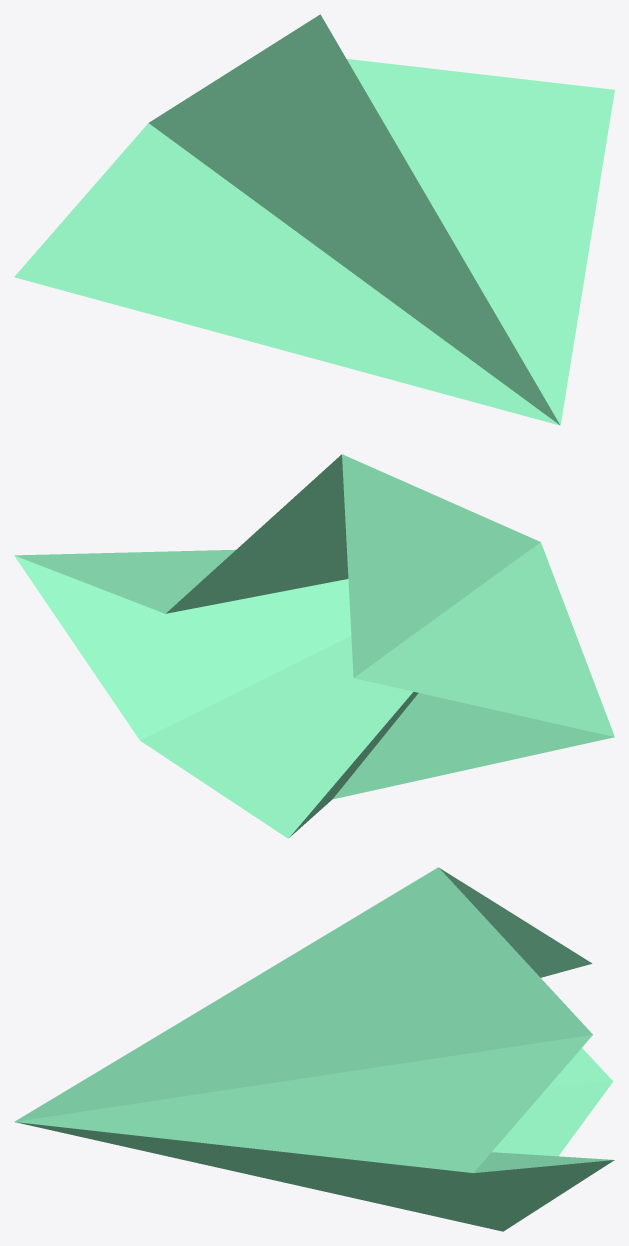
File: playerProyectile.glb
3 views of the same model, one above another, from view 1: azimuth 30°, elevation 25°; view 2: azimuth 150°, elevation 25°; view 3: azimuth 270°, elevation 25° (orthographic). The views are drawn at different scales.
Visible parts, largest first — view 1: Proyectile; view 2: Proyectile; view 3: Proyectile.
Boxes of the visible parts, left/top/right/bottom form: Proyectile: left=14, top=14, right=614, bottom=425; Proyectile: left=14, top=454, right=614, bottom=838; Proyectile: left=14, top=867, right=614, bottom=1231.
Bounding box in the file's own units: 1.64 × 0.9545 × 1.47.
